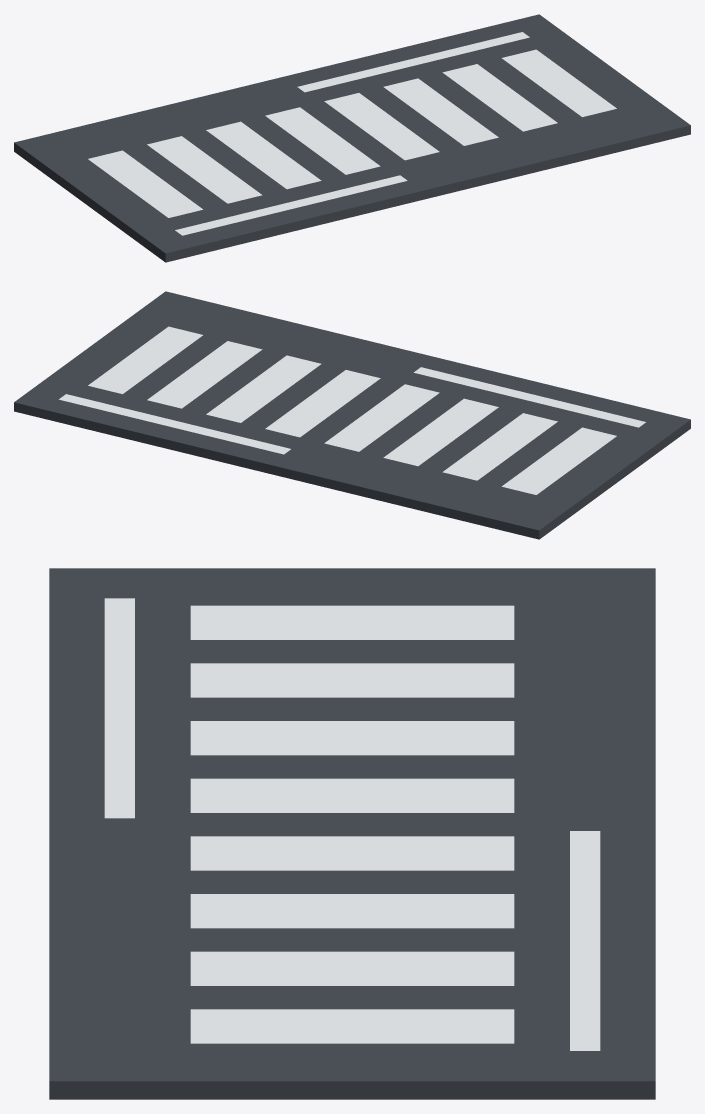
Rendered from CM_Road_Crosswalk.fbx.
3 views of the same model, one above another, from view 1: azimuth 30°, elevation 25°; view 2: azimuth 150°, elevation 25°; view 3: azimuth 270°, elevation 25° (orthographic). The views are drawn at different scales.
Visible parts, largest first — view 1: Road; view 2: Road; view 3: Road.
Part boxes in pixels (<box>): Road: <box>14,14,690,262</box>; Road: <box>14,291,690,539</box>; Road: <box>49,568,655,1099</box>.
Size of the model in its own units: 24 by 12 by 0.403.
Materials: 1 (1 with a texture image).
